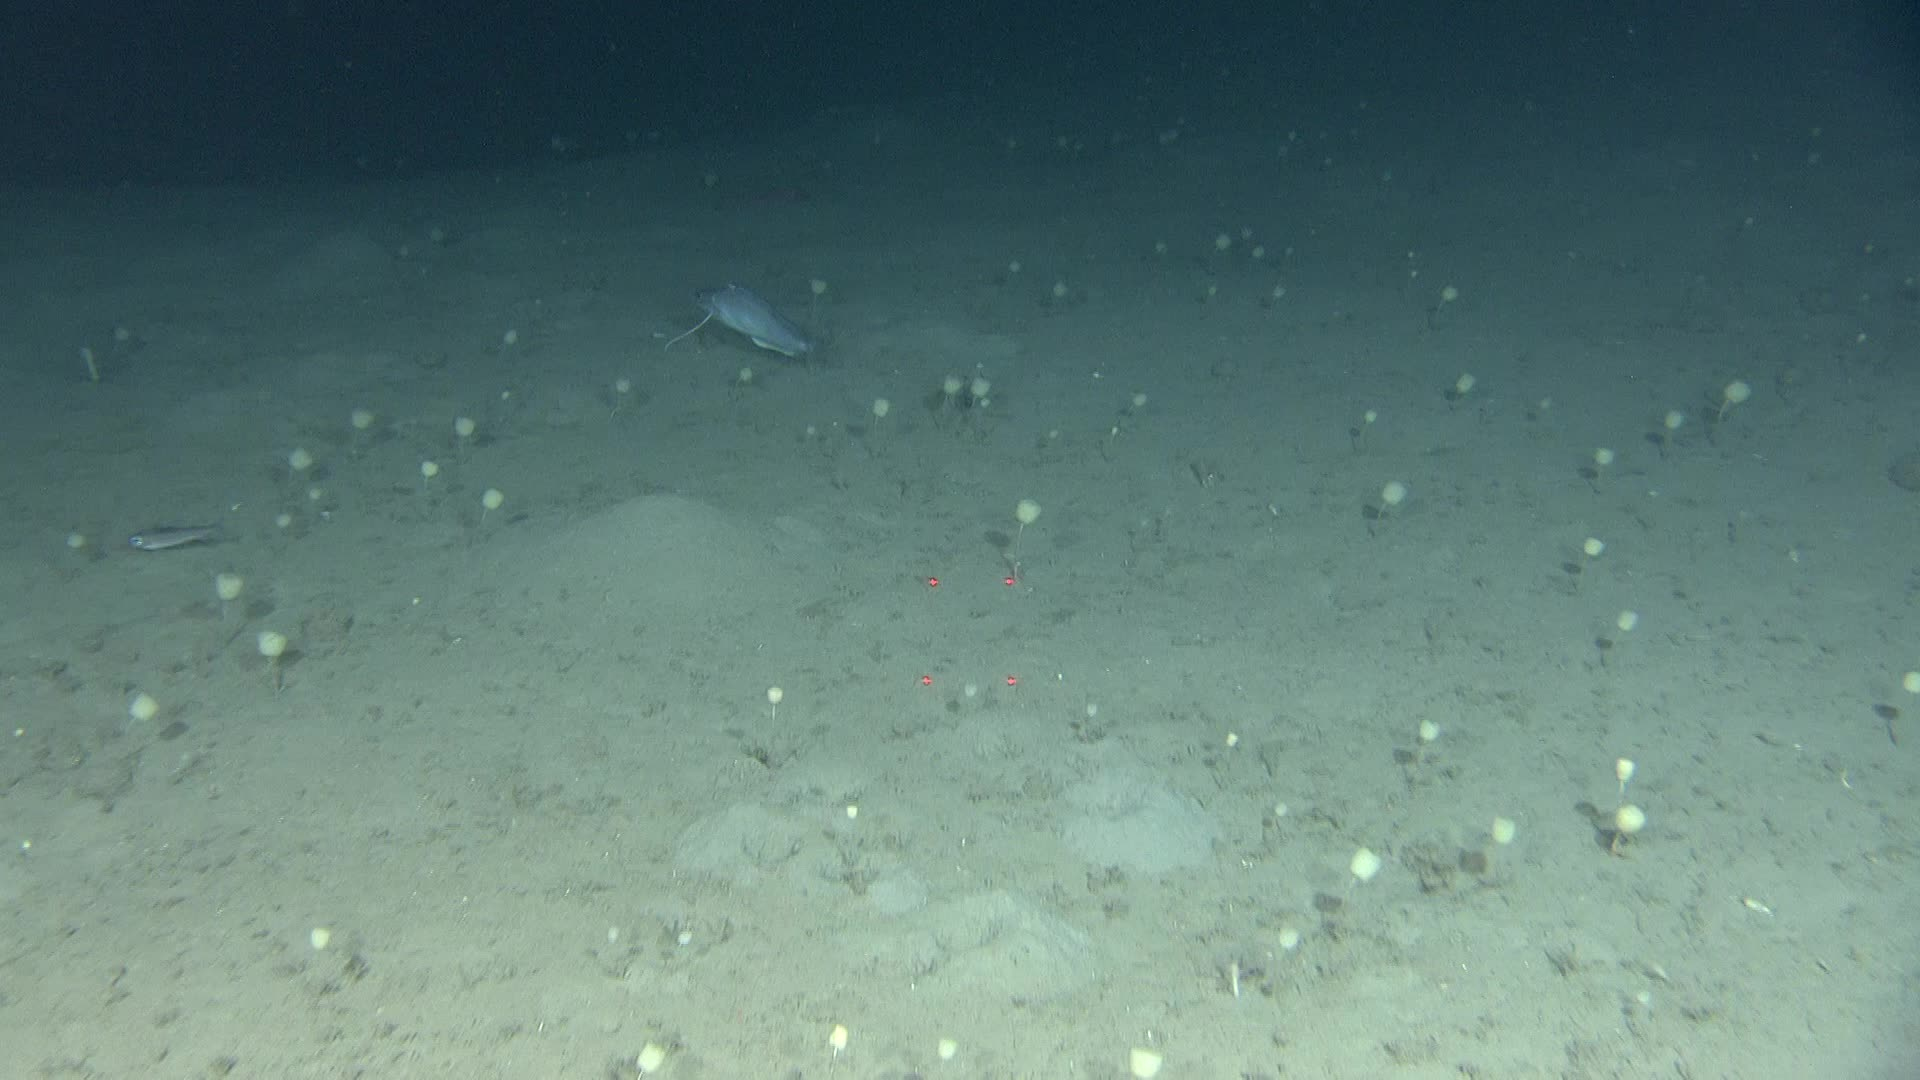S.borealis: (96, 686, 173, 761), (1709, 367, 1785, 433), (240, 611, 298, 686), (202, 556, 260, 632), (298, 918, 355, 982), (1604, 745, 1660, 810), (1393, 713, 1449, 778), (998, 487, 1036, 572), (47, 524, 105, 578), (336, 405, 393, 459), (1882, 653, 1920, 729), (269, 492, 307, 567), (1613, 794, 1651, 869), (1478, 804, 1516, 880), (1373, 475, 1431, 518), (1613, 593, 1651, 659), (442, 400, 480, 464), (1344, 843, 1382, 907), (1575, 529, 1613, 593), (1124, 1036, 1180, 1080), (940, 675, 980, 729), (1593, 438, 1633, 492), (269, 438, 307, 492), (922, 373, 960, 427), (960, 373, 998, 427), (749, 675, 787, 729), (595, 913, 633, 967), (825, 1021, 864, 1075), (1267, 923, 1305, 977), (1344, 394, 1382, 448), (1651, 405, 1689, 459), (922, 1031, 960, 1080), (1258, 276, 1315, 307), (633, 1036, 673, 1080), (307, 475, 345, 518), (404, 454, 442, 497), (595, 367, 633, 410), (729, 356, 767, 400), (864, 389, 902, 433), (653, 928, 691, 972), (1267, 799, 1305, 843), (1095, 410, 1133, 454), (1133, 389, 1171, 433), (1440, 367, 1478, 410), (1133, 237, 1171, 281), (1036, 281, 1075, 324), (998, 248, 1036, 291), (691, 162, 729, 206), (480, 487, 518, 529), (500, 324, 538, 367), (96, 324, 135, 367), (1209, 724, 1247, 766), (384, 243, 422, 276), (1036, 415, 1075, 448), (1075, 707, 1113, 740), (1516, 394, 1555, 427), (1267, 232, 1305, 265), (864, 124, 902, 157), (1402, 265, 1440, 297), (1844, 319, 1882, 351), (816, 265, 835, 319), (1431, 276, 1449, 330), (835, 799, 855, 843), (1238, 237, 1258, 281), (1516, 98, 1555, 119), (1220, 227, 1238, 270), (796, 415, 816, 448), (969, 394, 989, 427), (969, 351, 989, 384), (1411, 243, 1431, 276), (1007, 135, 1027, 167), (1142, 124, 1162, 157), (1276, 135, 1296, 167), (1373, 167, 1393, 200), (1622, 243, 1642, 276), (1853, 232, 1873, 265), (1853, 286, 1873, 319), (1104, 124, 1124, 157), (1238, 222, 1258, 253), (1200, 276, 1220, 307), (1315, 146, 1335, 178), (1353, 92, 1373, 124), (1047, 124, 1065, 157), (1335, 113, 1353, 146), (1815, 113, 1833, 146), (816, 157, 835, 189), (1738, 211, 1756, 243), (1815, 146, 1833, 178), (1065, 140, 1085, 162), (489, 389, 509, 410), (1276, 119, 1296, 140), (1315, 119, 1335, 140), (433, 227, 451, 248), (1162, 119, 1180, 140), (1911, 265, 1920, 297)
